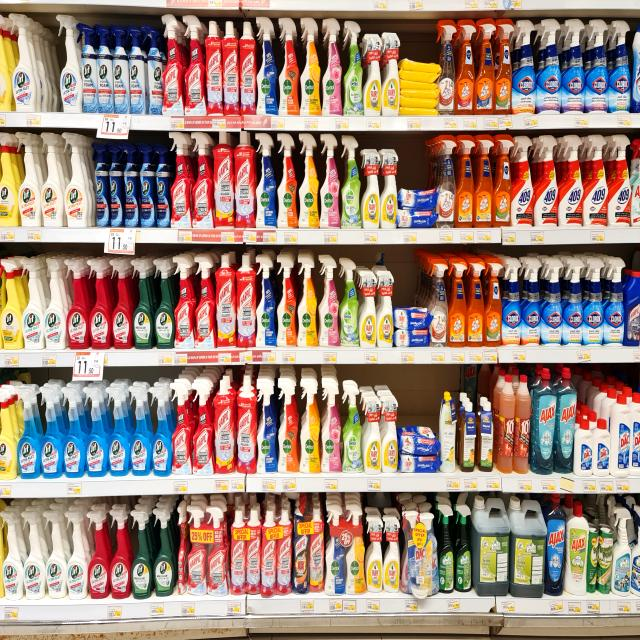OOS: (36, 13, 60, 113)
Product: (469, 495, 511, 598), (506, 496, 548, 598), (187, 504, 230, 597), (325, 503, 367, 596), (401, 510, 440, 600), (530, 368, 559, 476), (293, 499, 325, 596), (262, 506, 294, 598), (230, 506, 262, 596), (552, 367, 578, 474), (8, 13, 36, 112), (56, 14, 83, 114), (182, 15, 208, 116), (15, 131, 42, 227), (563, 501, 590, 597), (14, 388, 42, 480), (397, 58, 442, 115), (543, 494, 568, 596), (511, 18, 537, 115), (62, 132, 88, 228), (536, 19, 562, 114), (161, 14, 185, 116), (606, 134, 632, 227), (585, 18, 610, 114), (168, 132, 193, 228), (212, 378, 236, 477), (558, 135, 584, 226), (64, 259, 90, 350), (19, 258, 45, 349), (82, 386, 108, 477), (191, 132, 215, 229), (39, 386, 64, 479), (42, 510, 68, 599), (562, 18, 586, 114), (256, 16, 279, 116), (534, 135, 559, 227), (40, 132, 64, 227), (474, 18, 497, 117), (105, 386, 130, 477), (64, 510, 89, 601), (192, 382, 216, 476), (396, 426, 443, 474), (342, 19, 365, 117), (86, 259, 111, 349), (21, 510, 46, 600), (86, 510, 111, 600), (233, 131, 256, 228), (212, 132, 235, 228), (584, 134, 608, 226), (172, 256, 196, 348), (42, 258, 66, 350), (61, 386, 85, 478), (170, 383, 194, 475), (0, 509, 24, 601), (130, 259, 154, 350), (0, 259, 24, 350), (148, 387, 172, 478), (278, 17, 300, 116), (300, 17, 322, 116), (214, 254, 237, 348), (194, 256, 217, 350), (124, 25, 148, 115), (602, 256, 626, 346), (561, 258, 585, 348), (322, 18, 344, 116), (277, 381, 300, 474), (540, 258, 564, 347), (236, 378, 258, 475), (76, 22, 99, 114), (511, 136, 534, 228), (256, 382, 279, 474), (277, 133, 299, 229), (298, 133, 320, 229), (92, 23, 115, 114), (108, 24, 131, 115), (152, 258, 175, 349), (109, 259, 132, 350), (255, 133, 277, 228), (118, 141, 142, 228), (141, 25, 164, 115), (582, 257, 605, 347), (128, 386, 151, 476), (109, 510, 132, 600), (130, 510, 153, 600), (610, 20, 632, 114), (319, 134, 341, 228), (493, 134, 515, 228), (152, 508, 175, 597), (255, 256, 277, 349), (496, 374, 516, 476), (512, 374, 532, 476), (494, 18, 515, 115), (321, 382, 343, 474), (436, 20, 457, 116), (436, 134, 457, 230), (610, 506, 632, 597), (342, 384, 364, 474), (520, 258, 542, 347), (135, 142, 158, 227), (455, 135, 476, 228), (300, 381, 321, 474), (341, 137, 362, 229), (297, 256, 318, 348), (456, 20, 476, 116), (276, 256, 297, 347), (319, 257, 340, 347), (474, 134, 494, 228), (236, 254, 256, 348), (501, 257, 522, 346), (339, 258, 360, 346), (394, 188, 440, 228), (434, 502, 454, 594), (0, 131, 19, 227), (205, 21, 224, 116), (448, 258, 468, 348), (452, 503, 472, 593), (151, 143, 172, 228), (610, 393, 631, 478), (91, 140, 111, 228), (105, 142, 125, 228), (222, 21, 240, 116), (484, 256, 503, 346), (466, 257, 485, 347), (429, 258, 448, 348), (239, 21, 257, 115), (392, 307, 434, 347), (0, 387, 18, 480), (363, 33, 383, 116), (382, 32, 401, 117), (362, 148, 381, 228), (380, 149, 399, 229), (363, 396, 382, 475), (380, 394, 398, 474), (359, 270, 377, 348), (382, 514, 400, 592), (439, 396, 457, 474), (365, 515, 383, 592), (376, 271, 394, 347), (622, 272, 640, 346), (177, 500, 191, 594), (477, 401, 495, 474), (596, 524, 614, 595), (459, 401, 476, 474), (573, 419, 594, 477), (0, 14, 12, 112), (592, 418, 611, 477), (627, 392, 640, 477), (586, 522, 600, 597), (630, 504, 640, 598), (630, 23, 640, 113), (630, 139, 640, 226)
